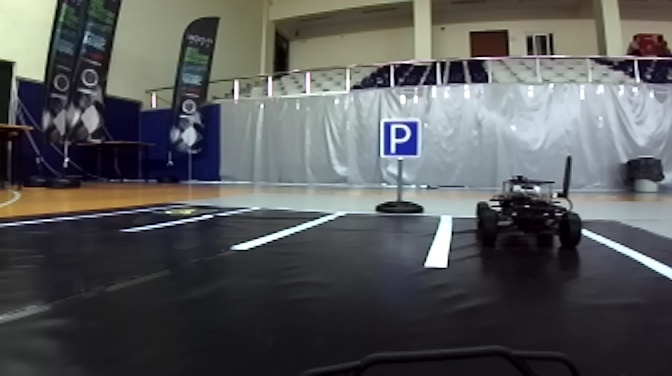park: (378, 118, 424, 159)
